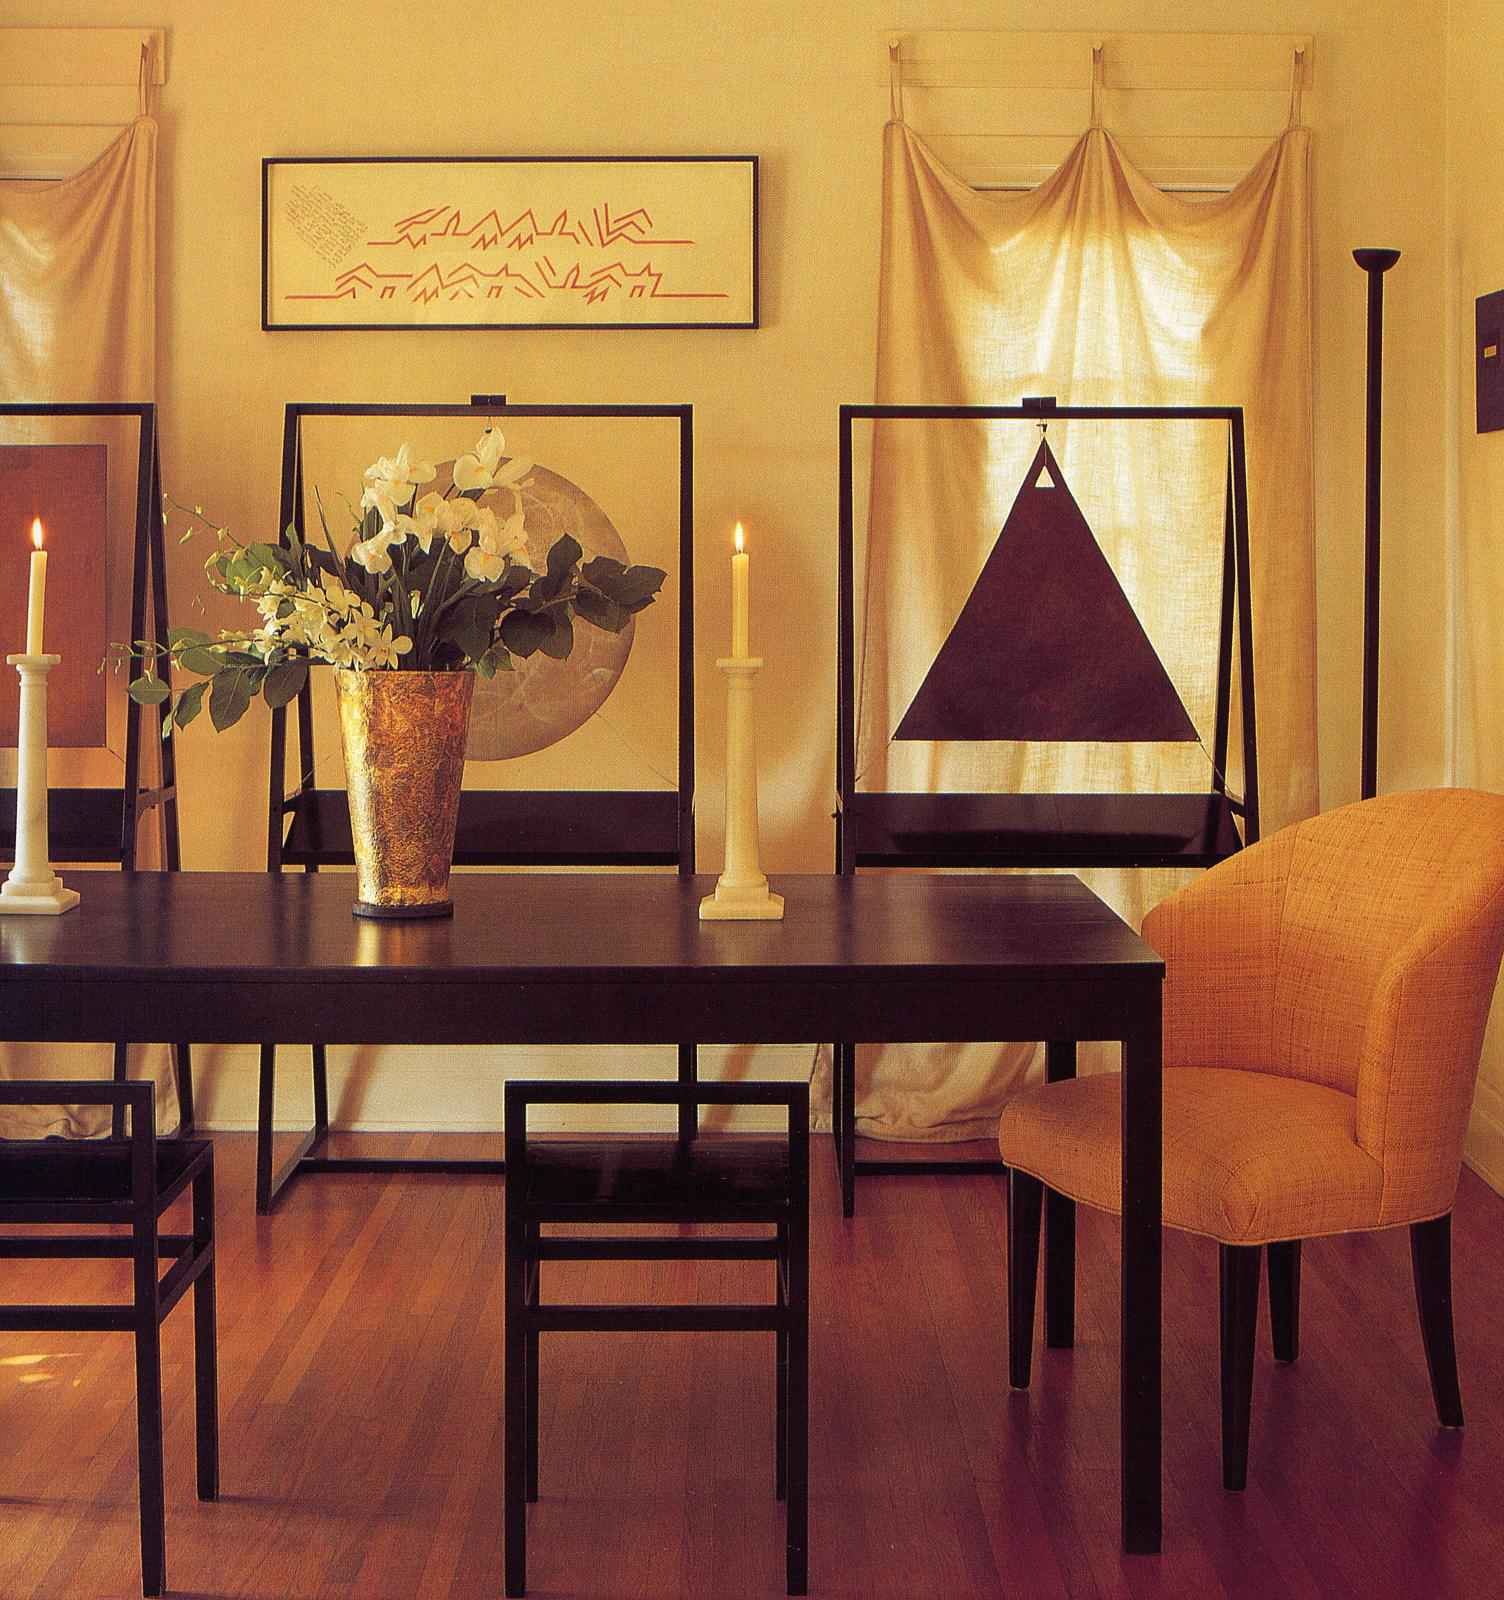Otro Obstaculo: (266, 377, 717, 1189), (817, 392, 1293, 869), (6, 376, 198, 1166)
Ventana: (900, 146, 1274, 718)
